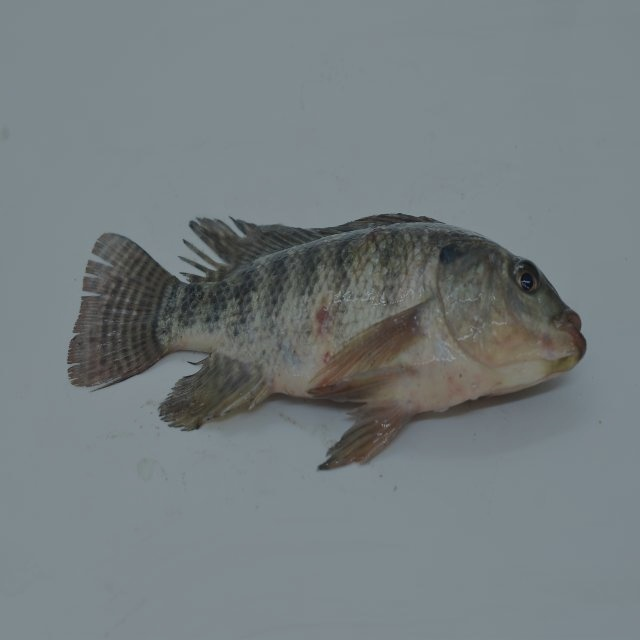Columnaris Disease: (54, 200, 602, 481)
